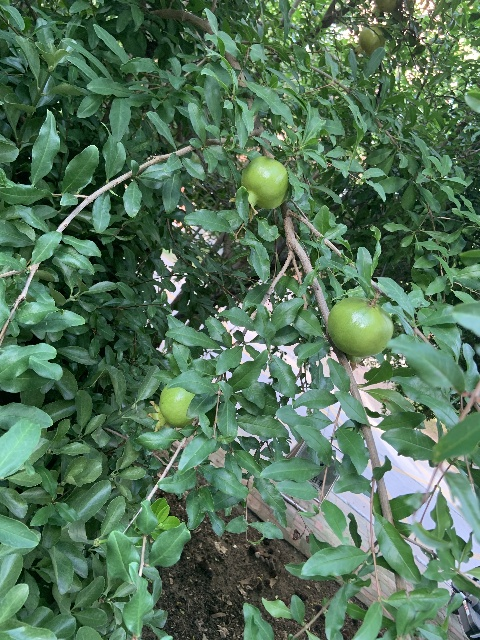mid-growth: (327, 296, 393, 371), (228, 156, 288, 220), (147, 384, 195, 432), (350, 26, 385, 57)
